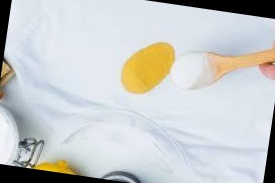mustard: (119, 39, 166, 99), (153, 40, 174, 81), (149, 47, 175, 66)
